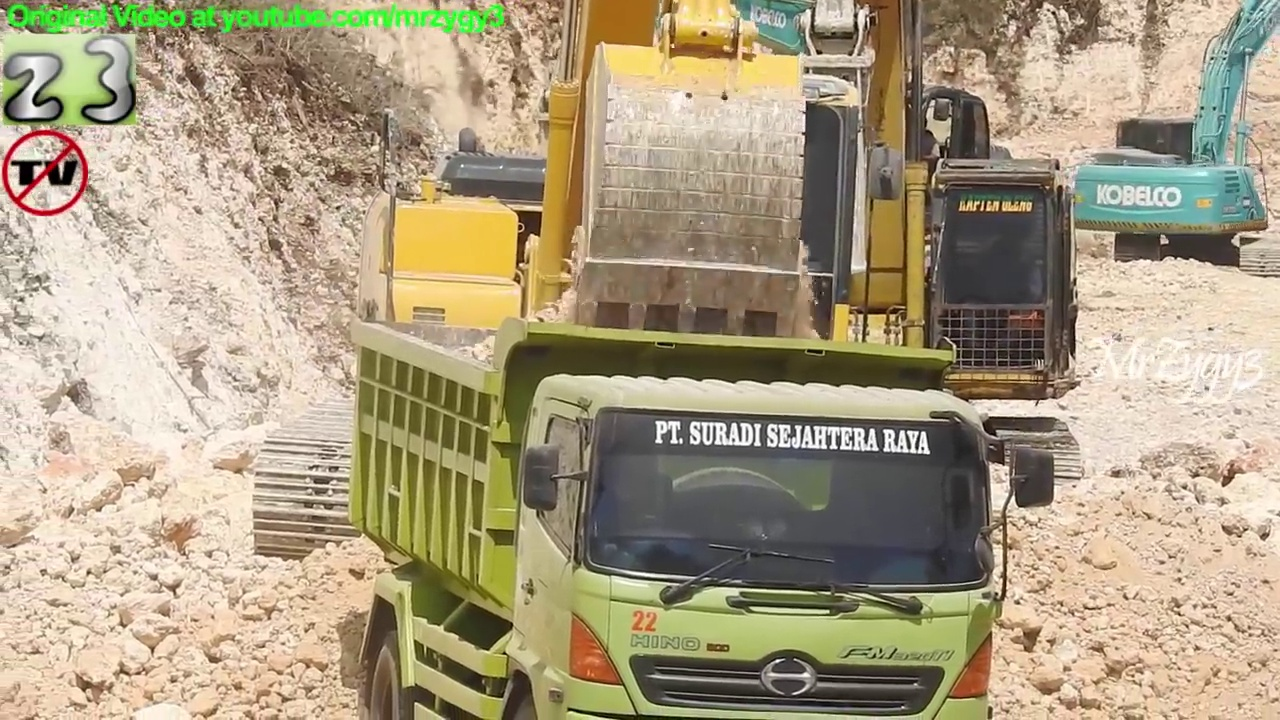excavator: (250, 2, 955, 575), (398, 1, 1091, 527), (1054, 2, 1280, 285)
truck: (338, 310, 1062, 720)
